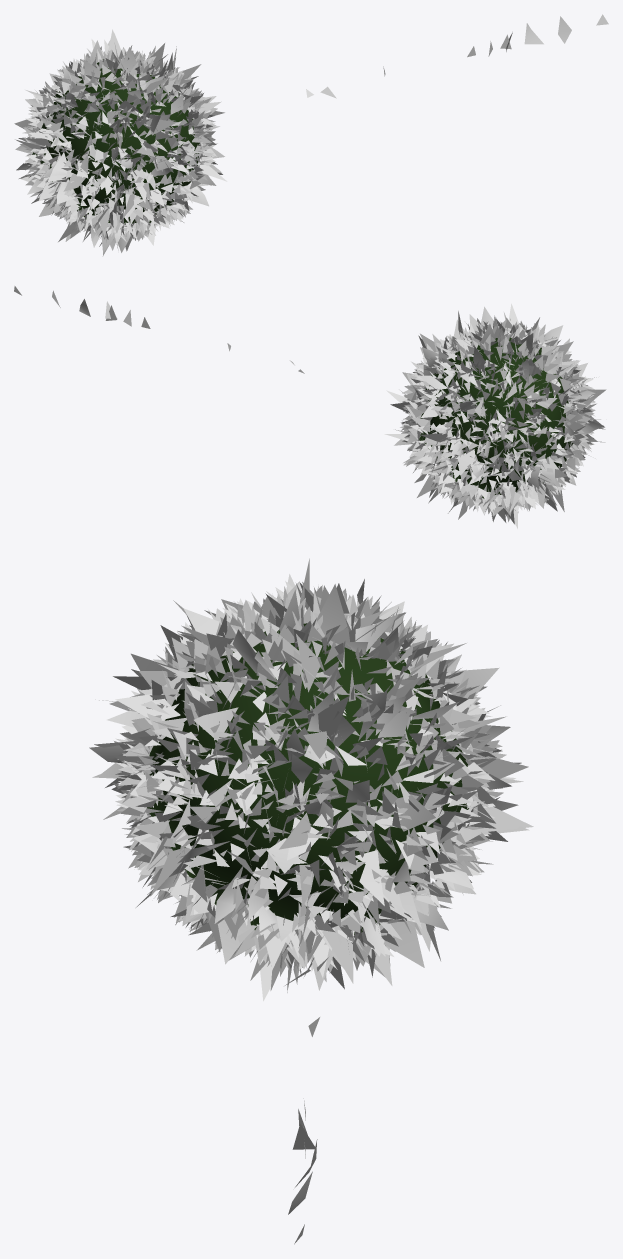
File: grass_bermuda_01.fbx
3 renders of one model, top to bottom at view 1: azimuth 30°, elevation 25°; view 2: azimuth 150°, elevation 25°; view 3: azimuth 270°, elevation 25°, orthographic. The views are drawn at different scales.
Parts seen in each view (by area): view 1: grass_bermuda_01_LOD0; view 2: grass_bermuda_01_LOD0; view 3: grass_bermuda_01_LOD0.
Boxes of the visible parts, x1,y1,x2,y2 form: grass_bermuda_01_LOD0: (14,14,608,256); grass_bermuda_01_LOD0: (14,286,606,528); grass_bermuda_01_LOD0: (89,558,533,1244).
Size of what is drawn, in the model's own units: 303 by 100 by 101.
